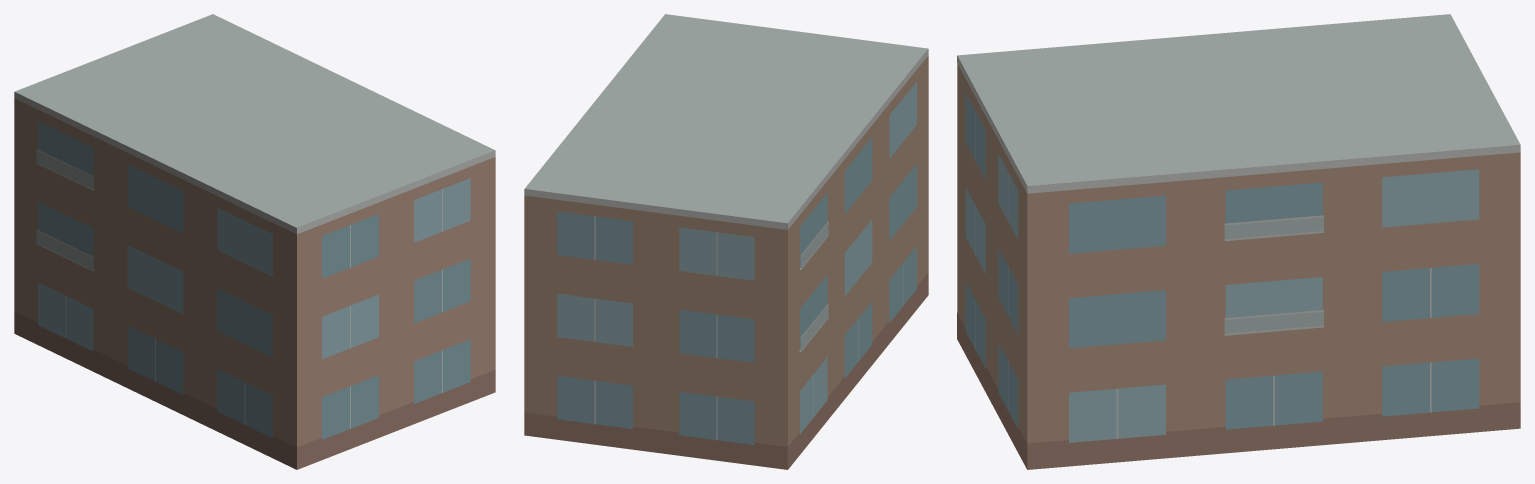
File: survey-upis-32708911.glb
3 views of the same model, side by side, from view 1: azimuth 30°, elevation 25°; view 2: azimuth 150°, elevation 25°; view 3: azimuth 270°, elevation 25° (orthographic). The views are drawn at different scales.
Visible parts, largest first — view 1: survey-upis-32708911.tmp; view 2: survey-upis-32708911.tmp; view 3: survey-upis-32708911.tmp.
Boxes of the visible parts, x1=… form: survey-upis-32708911.tmp: x1=14, y1=14, x2=495, y2=469; survey-upis-32708911.tmp: x1=524, y1=14, x2=928, y2=469; survey-upis-32708911.tmp: x1=957, y1=14, x2=1520, y2=469.
Size of the model in its own units: 11.92 by 9.15 by 16.48.
